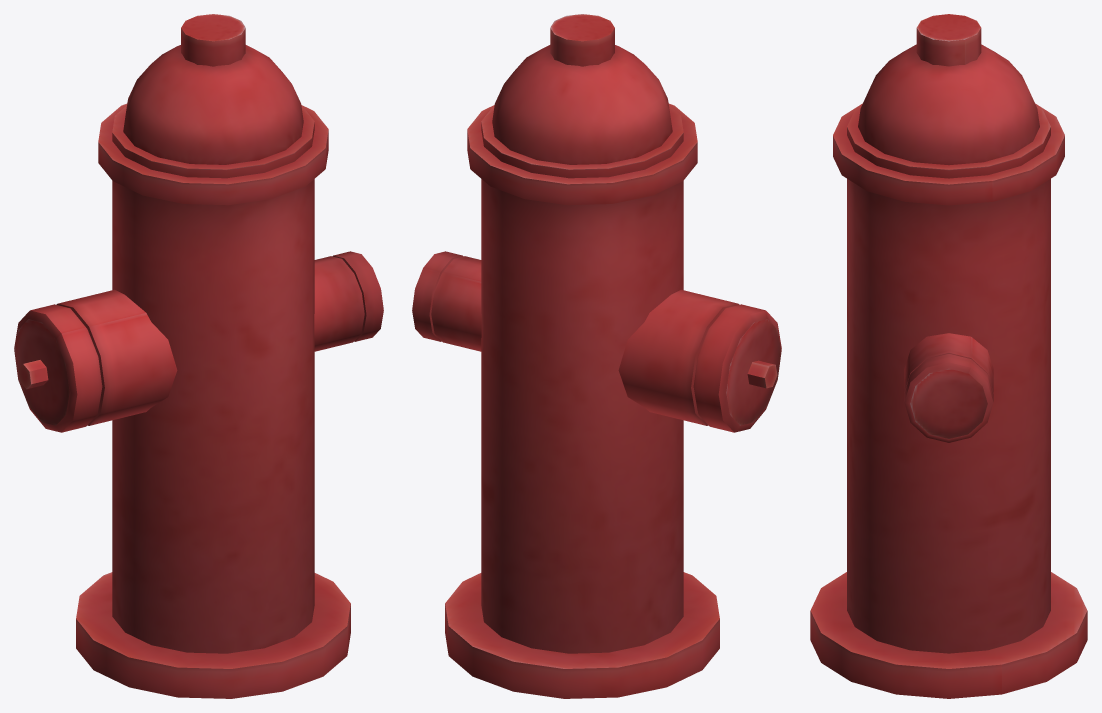
Rendered from SiWangPenQuan_01_xiaofangshuan_01_UV2.FBX.
The picture shows the model from 3 angles, left to right: view 1: azimuth 30°, elevation 25°; view 2: azimuth 150°, elevation 25°; view 3: azimuth 270°, elevation 25°; orthographic projection.
Visible parts, largest first — view 1: SiWangPenQuan_01_xiaofangshuan_01_UV2; view 2: SiWangPenQuan_01_xiaofangshuan_01_UV2; view 3: SiWangPenQuan_01_xiaofangshuan_01_UV2.
Part boxes in pixels (x1=…): SiWangPenQuan_01_xiaofangshuan_01_UV2: x1=14, y1=14, x2=383, y2=698; SiWangPenQuan_01_xiaofangshuan_01_UV2: x1=412, y1=14, x2=781, y2=698; SiWangPenQuan_01_xiaofangshuan_01_UV2: x1=810, y1=14, x2=1087, y2=698.
Bounding box in the file's own units: 236 × 408 × 167.
